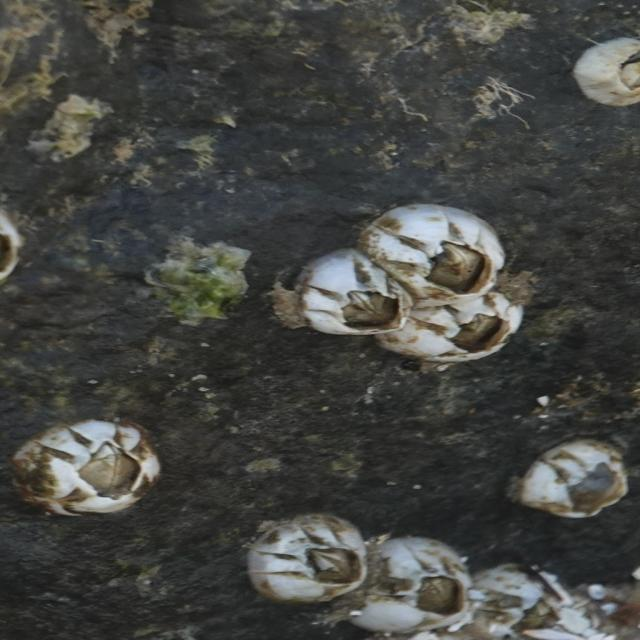barnacles: (11, 420, 168, 519), (369, 196, 503, 302), (342, 539, 479, 635), (282, 252, 418, 342), (243, 506, 362, 606), (512, 435, 634, 525), (381, 296, 526, 370), (562, 33, 640, 124)
